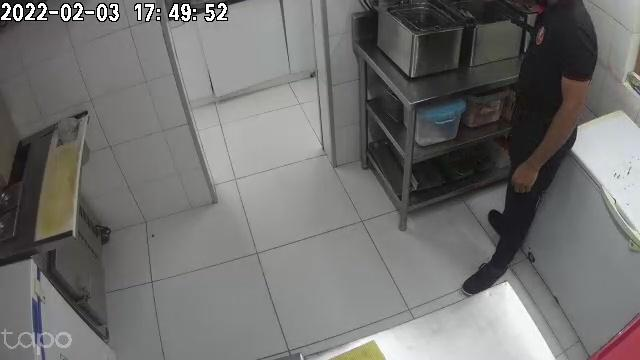no_gloves: (512, 145, 545, 195)
